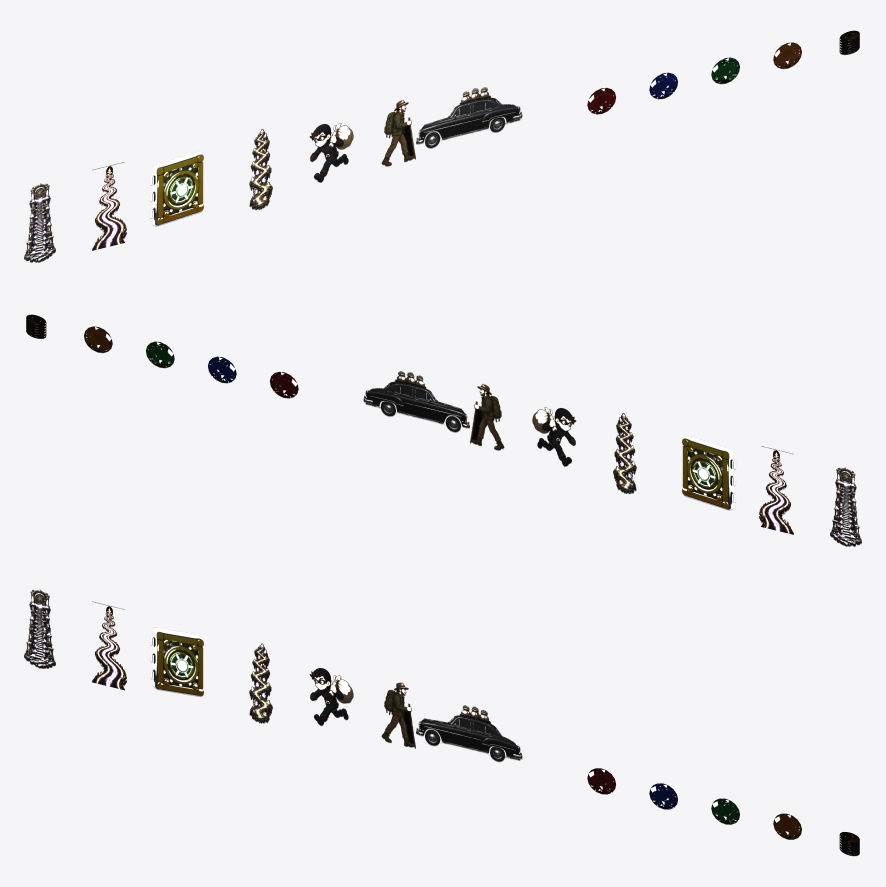
Rendered from CasinoAssetStudio.glb.
3 views of the same model, one above another, from view 1: azimuth 30°, elevation 25°; view 2: azimuth 150°, elevation 25°; view 3: azimuth 330°, elevation 25° (orthographic).
Visible parts, largest first — view 1: heist_vault_door, heist_getaway, heist_stairs, heist_road, heist_robber, climber_trail, climber_hiker, icon_gem_topaz, icon_gem_emerald, icon_gem_sapphire, icon_gem_ruby; view 2: heist_vault_door, heist_getaway, heist_stairs, heist_road, heist_robber, climber_trail, climber_hiker, icon_gem_topaz, icon_gem_emerald, icon_gem_sapphire, icon_gem_ruby; view 3: heist_vault_door, heist_getaway, heist_stairs, heist_road, heist_robber, climber_trail, climber_hiker, icon_gem_emerald, icon_gem_sapphire, icon_gem_topaz, icon_gem_ruby.
Part boxes in pixels (x1,y1,x2,y2): heist_vault_door: (150,151,203,226); heist_getaway: (416,87,522,148); heist_stairs: (24,183,55,262); heist_road: (92,162,126,250); heist_robber: (309,123,353,182); climber_trail: (249,129,272,209); climber_hiker: (381,100,415,166); icon_gem_topaz: (773,42,801,68); icon_gem_emerald: (711,57,739,84); icon_gem_sapphire: (649,72,677,99); icon_gem_ruby: (587,87,615,114); heist_vault_door: (682,435,735,510); heist_getaway: (363,371,469,432); heist_stairs: (830,467,861,546); heist_road: (759,446,793,534); heist_robber: (532,407,576,466); climber_trail: (613,413,636,493); climber_hiker: (470,384,504,450); icon_gem_topaz: (84,326,112,352); icon_gem_emerald: (146,341,174,368); icon_gem_sapphire: (208,356,236,383); icon_gem_ruby: (270,371,298,398); heist_vault_door: (150,627,203,696); heist_getaway: (416,705,522,761); heist_stairs: (24,589,55,668); heist_road: (92,601,126,690); heist_robber: (309,668,353,725); climber_trail: (249,643,272,723); climber_hiker: (381,682,415,748); icon_gem_emerald: (711,798,739,824); icon_gem_sapphire: (649,783,677,809); icon_gem_topaz: (773,813,801,839); icon_gem_ruby: (587,768,615,794).
Size of the model in its own units: 22.15 by 2 by 0.
Materials: 12 (12 with a texture image).
